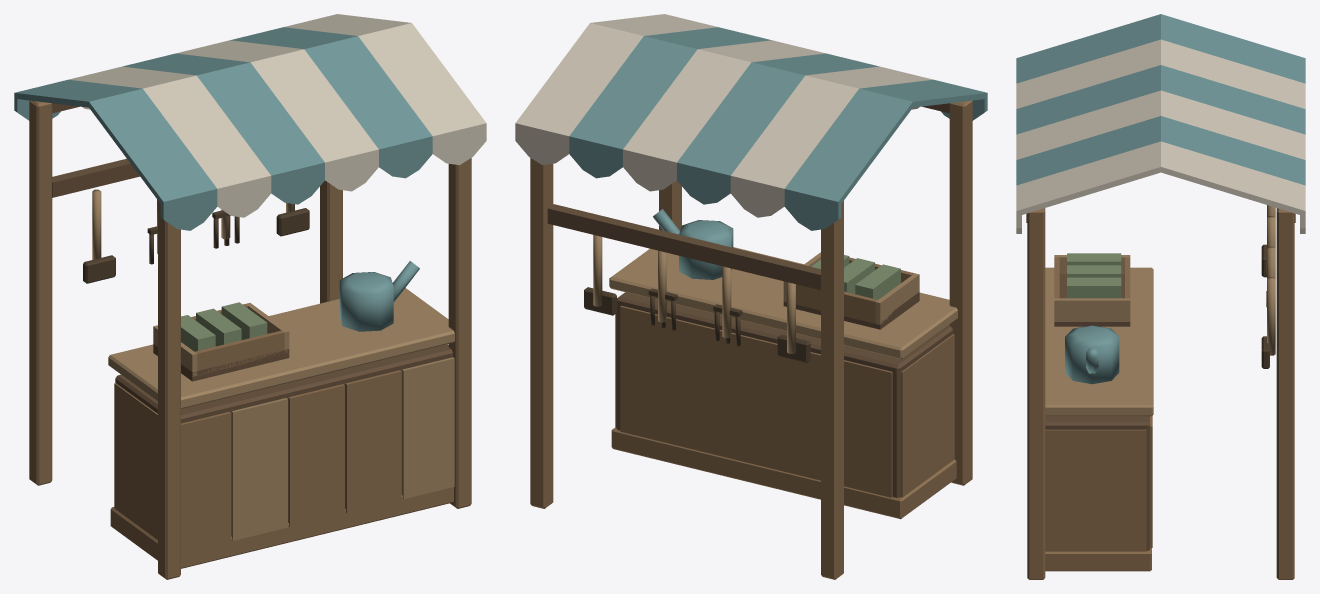
Rendered from stall_tools.glb.
3 views of the same model, side by side, from view 1: azimuth 30°, elevation 25°; view 2: azimuth 150°, elevation 25°; view 3: azimuth 270°, elevation 25° (orthographic). The views are drawn at different scales.
Visible parts, largest first — view 1: stall_tools; view 2: stall_tools; view 3: stall_tools.
Boxes of the visible parts, bbox=[...] form: stall_tools: bbox=[14, 14, 486, 579]; stall_tools: bbox=[515, 14, 987, 579]; stall_tools: bbox=[1016, 14, 1305, 579].
Bounding box in the file's own units: 2 × 2.55 × 1.6.
